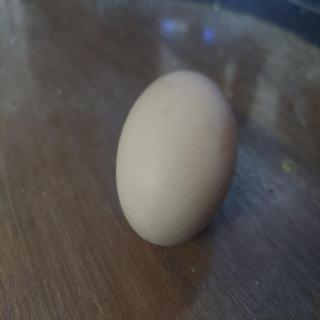Telur: (115, 68, 241, 250)
